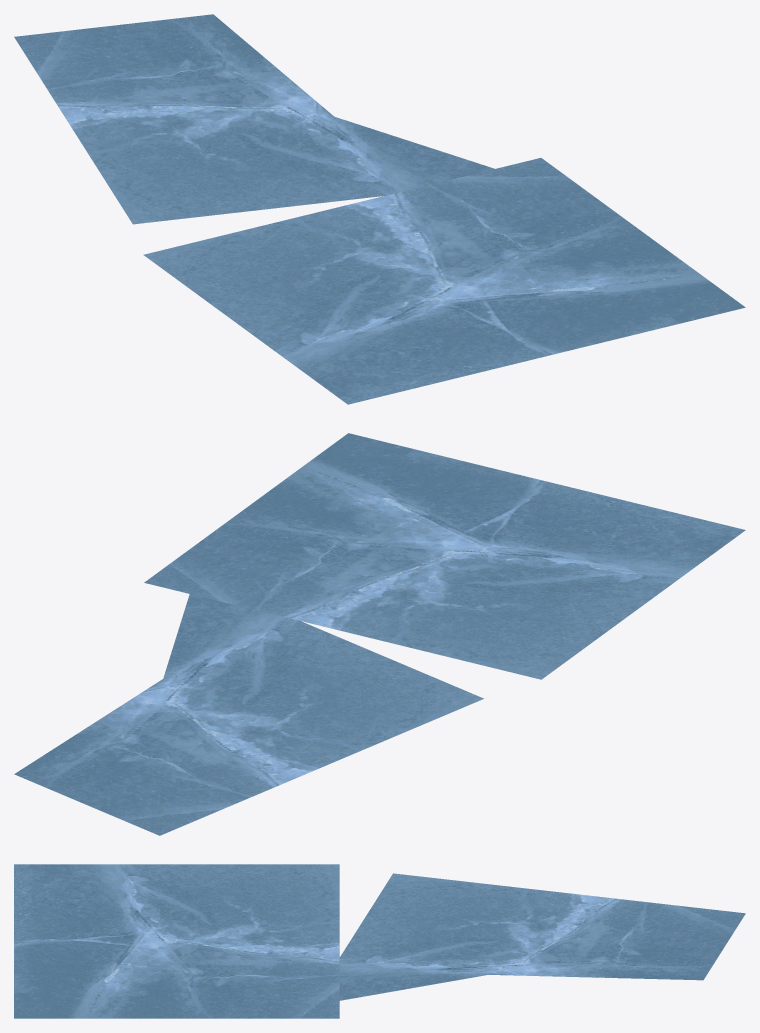
File: S_Rock_White056.FBX
3 renders of one model, top to bottom at view 1: azimuth 30°, elevation 25°; view 2: azimuth 150°, elevation 25°; view 3: azimuth 270°, elevation 25°, orthographic. The views are drawn at different scales.
Parts seen in each view (by area): view 1: S_Rock_White56; view 2: S_Rock_White56; view 3: S_Rock_White56.
Boxes of the visible parts, x1=… form: S_Rock_White56: x1=14, y1=14, x2=745, y2=404; S_Rock_White56: x1=14, y1=433, x2=745, y2=835; S_Rock_White56: x1=14, y1=864, x2=745, y2=1018.
Size of the model in its own units: 1172 by 2349 by 4.57e-05.
